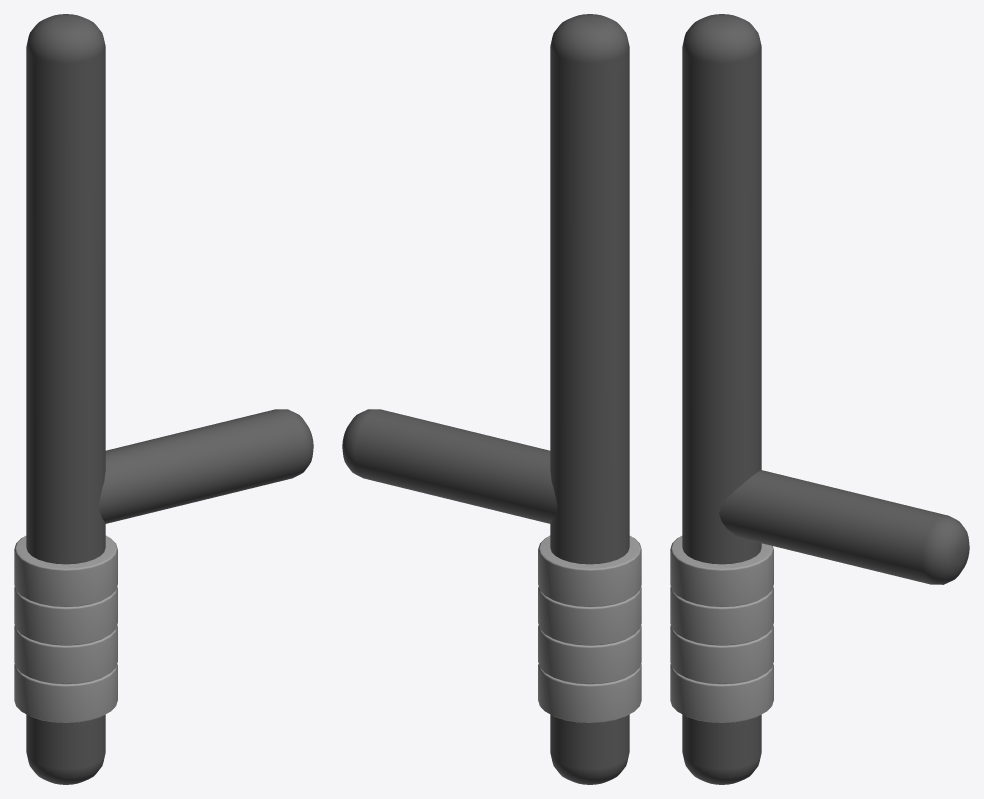
Rendered from Public_16_Police_Baton_1.glb.
The picture shows the model from 3 angles, left to right: view 1: azimuth 30°, elevation 25°; view 2: azimuth 150°, elevation 25°; view 3: azimuth 330°, elevation 25°; orthographic projection.
Visible parts, largest first — view 1: Public_16_Police_Baton_1; view 2: Public_16_Police_Baton_1; view 3: Public_16_Police_Baton_1.
Part boxes in pixels (x1=…): Public_16_Police_Baton_1: x1=14, y1=14, x2=313, y2=784; Public_16_Police_Baton_1: x1=342, y1=14, x2=641, y2=784; Public_16_Police_Baton_1: x1=670, y1=14, x2=969, y2=784.
Size of the model in its own units: 1.03 by 2.62 by 0.3247.
1 material, 1 textured.
